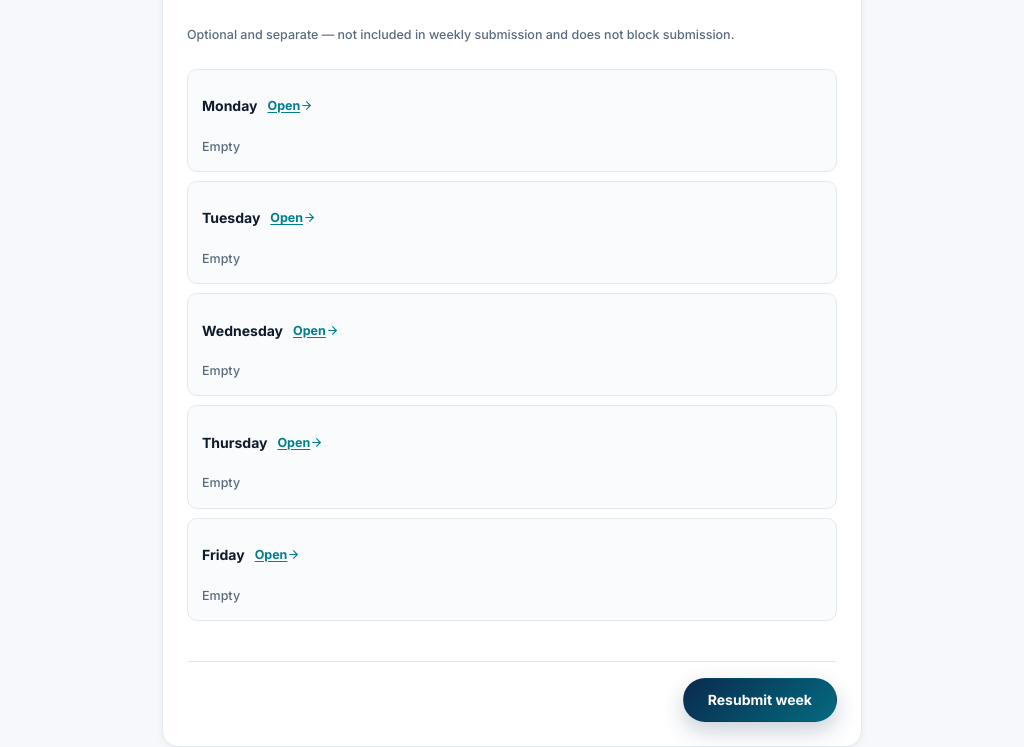
managed editors › submits a managed week through the API after autosave
(page scrolled)
Click the button "Resubmit week": coordinates (760, 700) [683, 678, 837, 722]
(page scrolled)
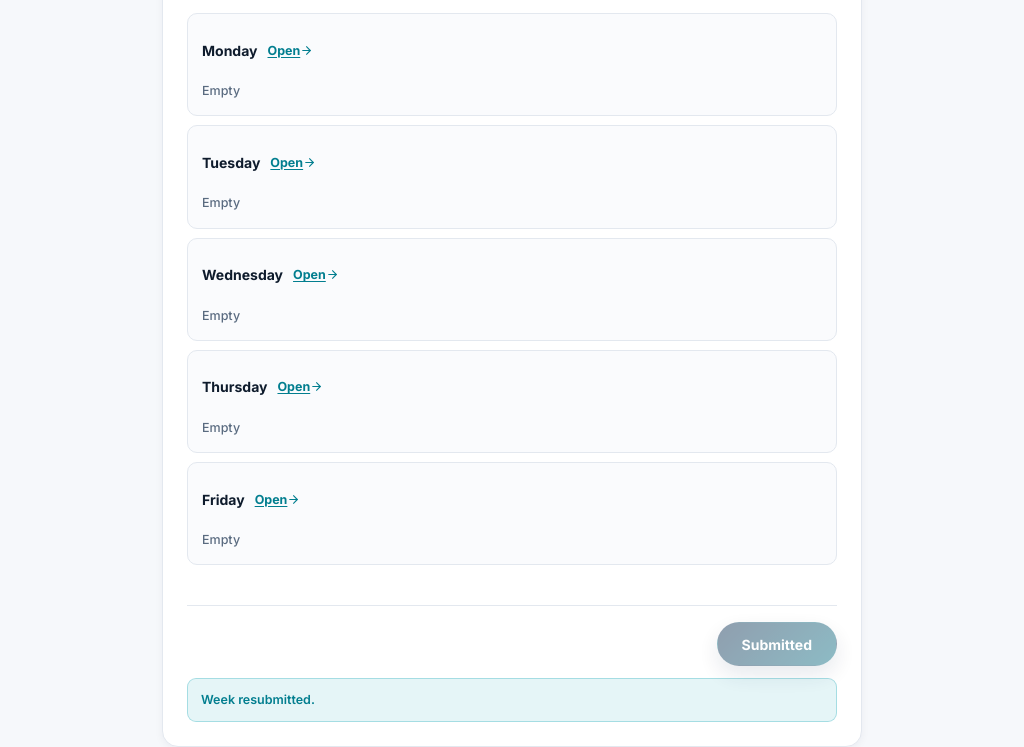
expect the text "Week resubmitted." is shown: met, box [187, 678, 837, 722]
